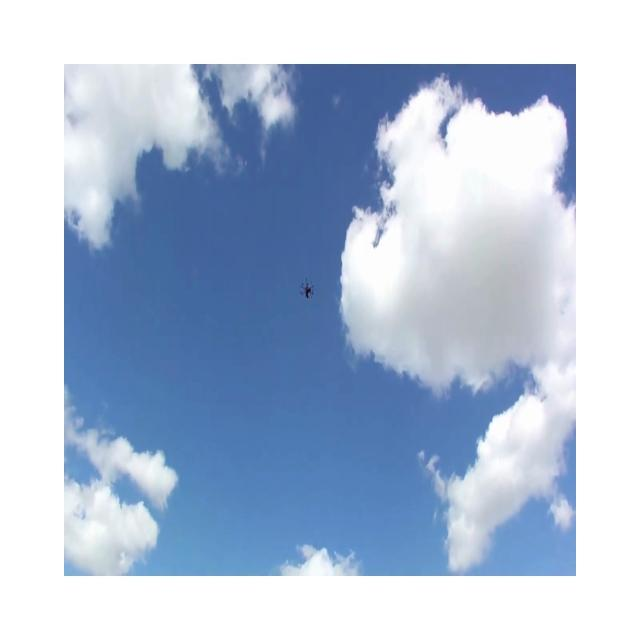drone: (299, 277, 314, 299)
